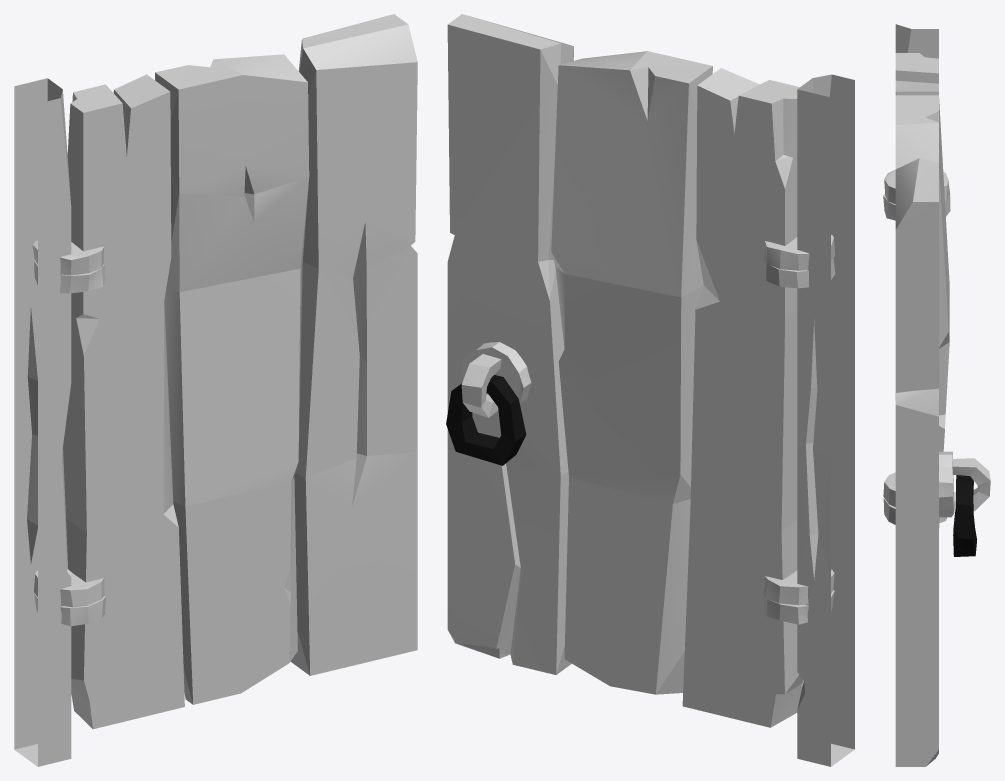
The model's file is NGF_Env_Door_attachment_01.fbx.
3 renders of one model, left to right at view 1: azimuth 30°, elevation 25°; view 2: azimuth 150°, elevation 25°; view 3: azimuth 270°, elevation 25°, orthographic. The views are drawn at different scales.
Visible parts, largest first — view 1: NGF_Env_Door_04, NGF_Env_Door_attachment_01, NGF_Env_Hinges_10, NGF_Env_Hinges_04; view 2: NGF_Env_Door_04, NGF_Env_Door_attachment_01, NGF_Env_Handle_04, NGF_Env_Handle_attachment_04, NGF_Env_Hinges_10, NGF_Env_Hinges_04; view 3: NGF_Env_Door_04, NGF_Env_Handle_attachment_04, NGF_Env_Handle_04, NGF_Env_Door_attachment_01, NGF_Env_Hinges_10, NGF_Env_Hinges_04.
Part boxes in pixels (x1,y1,x2,y2): NGF_Env_Door_04: [63, 14, 417, 729]; NGF_Env_Door_attachment_01: [14, 78, 71, 766]; NGF_Env_Hinges_10: [32, 240, 104, 607]; NGF_Env_Hinges_04: [34, 260, 105, 626]; NGF_Env_Door_04: [447, 14, 803, 727]; NGF_Env_Door_attachment_01: [797, 74, 854, 766]; NGF_Env_Handle_04: [446, 375, 526, 465]; NGF_Env_Handle_attachment_04: [461, 342, 531, 417]; NGF_Env_Hinges_10: [763, 235, 834, 605]; NGF_Env_Hinges_04: [764, 258, 835, 624]; NGF_Env_Door_04: [895, 53, 949, 766]; NGF_Env_Handle_attachment_04: [939, 451, 990, 517]; NGF_Env_Handle_04: [953, 475, 976, 556]; NGF_Env_Door_attachment_01: [895, 24, 938, 58]; NGF_Env_Hinges_10: [883, 169, 950, 506]; NGF_Env_Hinges_04: [883, 194, 950, 524].
Bounding box in the file's own units: 1.58 × 2.64 × 0.4249.
Materials: 1 (1 with a texture image).
